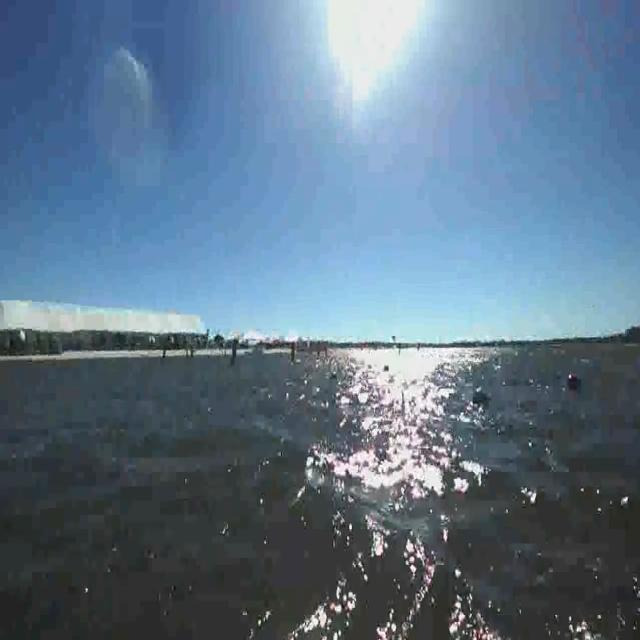green-buoy: (472, 385, 488, 409)
red-buoy: (564, 368, 582, 391)
